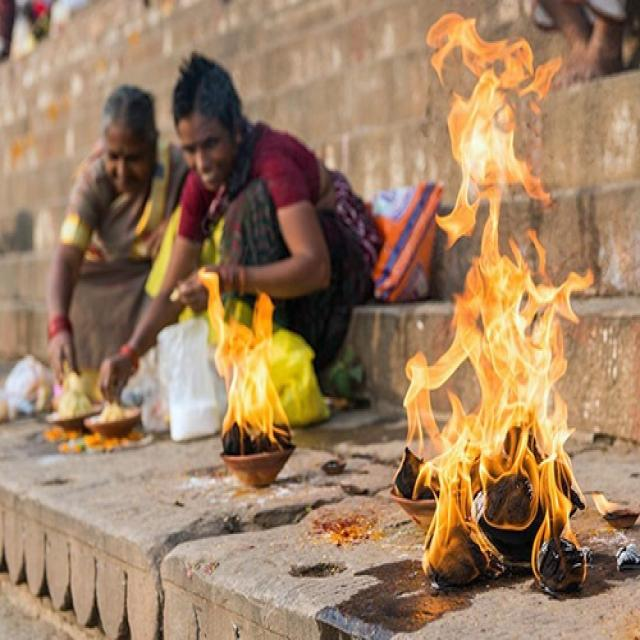fire: (403, 12, 593, 589), (199, 266, 293, 450)
